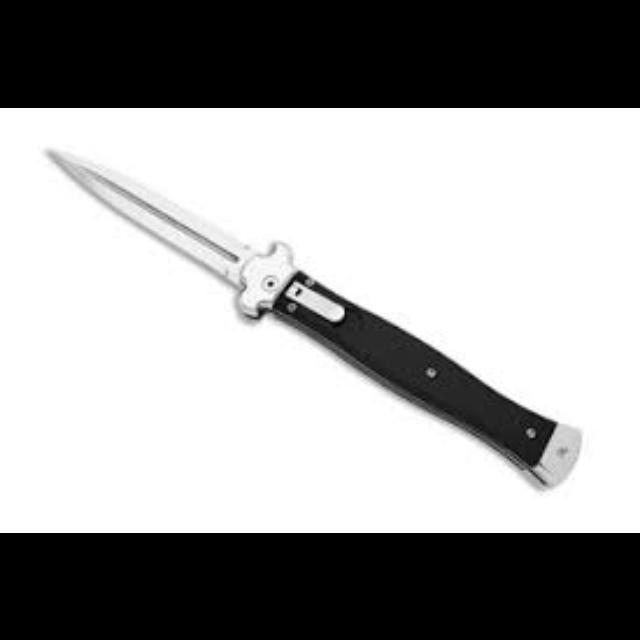knife: (41, 107, 640, 453)
